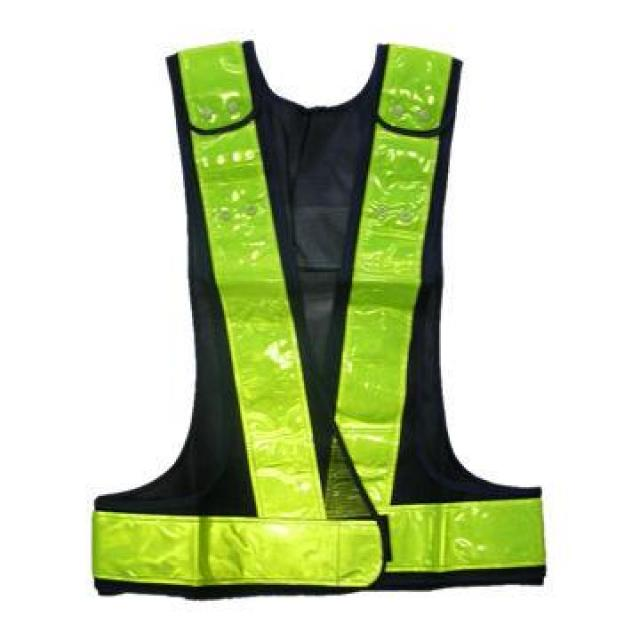Reflective-Jacket: (21, 14, 601, 624)
